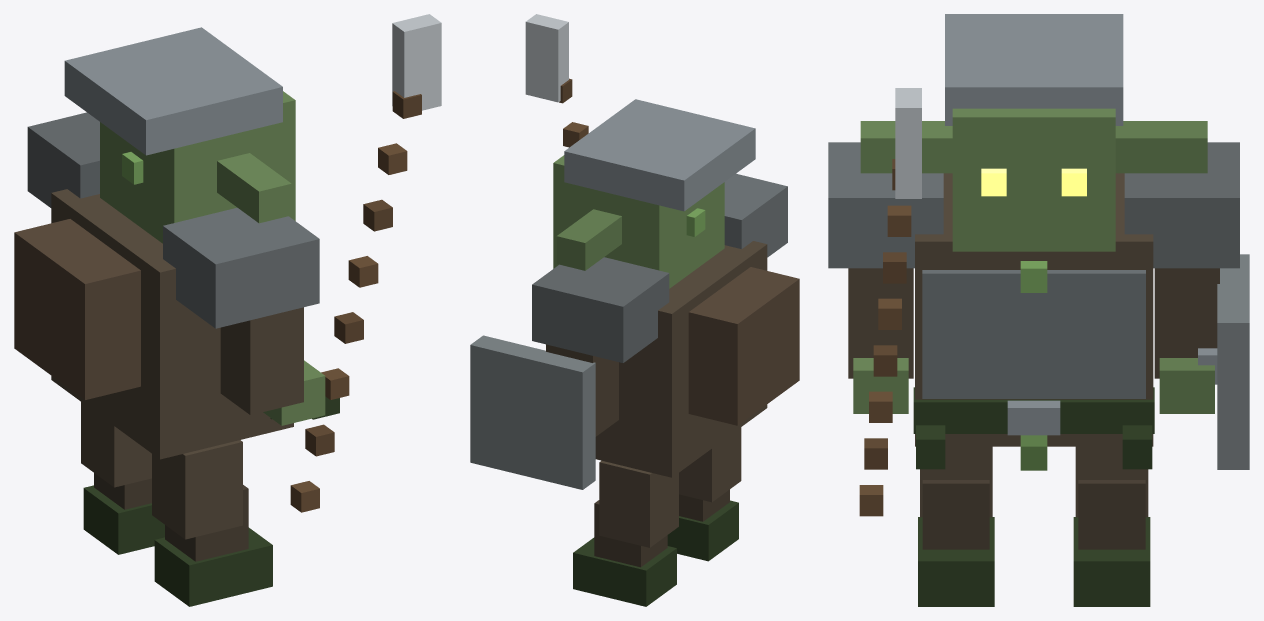
Rendered from goblin-scavenger.glb.
3 views of the same model, side by side, from view 1: azimuth 30°, elevation 25°; view 2: azimuth 150°, elevation 25°; view 3: azimuth 270°, elevation 25° (orthographic). The views are drawn at different scales.
Parts seen in each view (by area): view 1: Boots, Torso, Shoulders, Crest, Pack, Head, Arms, Spear, SpearTip, Ears, Hands, Trim; view 2: Boots, Shield, Shoulders, Torso, Pack, Crest, Head, SpearTip, Ears, Arms, Spear, Trim; view 3: Armor, Boots, Head, Shoulders, Crest, Torso, Arms, Ears, Shield, Spear, Hands, Trim (+3 smaller).
Part boxes in pixels (x1=…): Boots: x1=81, y1=402, x2=272, y2=606; Torso: x1=51, y1=189, x2=293, y2=459; Shoulders: x1=27, y1=112, x2=319, y2=328; Crest: x1=64, y1=27, x2=282, y2=155; Pack: x1=14, y1=219, x2=140, y2=399; Head: x1=100, y1=91, x2=295, y2=243; Arms: x1=220, y1=307, x2=303, y2=414; Spear: x1=290, y1=91, x2=421, y2=512; SpearTip: x1=392, y1=14, x2=441, y2=110; Ears: x1=217, y1=153, x2=291, y2=223; Hands: x1=263, y1=360, x2=325, y2=425; Trim: x1=122, y1=152, x2=143, y2=184; Boots: x1=573, y1=427, x2=741, y2=606; Shield: x1=470, y1=335, x2=595, y2=489; Shoulders: x1=532, y1=173, x2=787, y2=362; Torso: x1=595, y1=241, x2=767, y2=477; Pack: x1=688, y1=267, x2=799, y2=425; Crest: x1=564, y1=99, x2=755, y2=211; Head: x1=553, y1=155, x2=724, y2=288; SpearTip: x1=525, y1=14, x2=568, y2=102; Ears: x1=556, y1=209, x2=621, y2=270; Arms: x1=546, y1=344, x2=618, y2=436; Spear: x1=559, y1=78, x2=588, y2=147; Trim: x1=686, y1=208, x2=705, y2=236; Armor: x1=913, y1=270, x2=1154, y2=433; Boots: x1=918, y1=446, x2=1150, y2=606; Head: x1=952, y1=108, x2=1115, y2=251; Shoulders: x1=828, y1=142, x2=1239, y2=268; Crest: x1=945, y1=14, x2=1123, y2=125; Torso: x1=915, y1=173, x2=1153, y2=446; Arms: x1=848, y1=268, x2=1219, y2=378; Ears: x1=860, y1=121, x2=1207, y2=173; Shield: x1=1198, y1=254, x2=1249, y2=469; Spear: x1=859, y1=159, x2=911, y2=516; Hands: x1=853, y1=358, x2=1214, y2=413; Trim: x1=1007, y1=261, x2=1060, y2=470.
Size of the model in its own units: 2.81 by 4.36 by 2.85.
